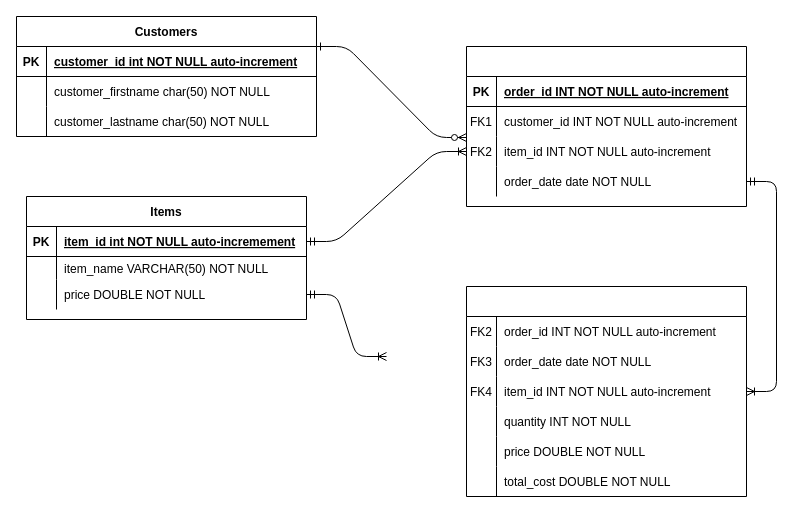
The diagram is 793 pixels wide and 513 high, and some of its shapes have lost their labels. The box of each missing label's shape, as (x1, y1, x2, y2) in pixels:
Orders: (466, 46, 746, 206)
Orders_Items: (466, 286, 746, 496)
